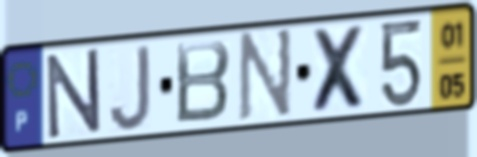5: (377, 18, 425, 110)
B: (173, 36, 233, 127)
J: (107, 41, 154, 134)
N: (235, 25, 295, 125), (44, 45, 104, 143)
X: (309, 22, 372, 116)
